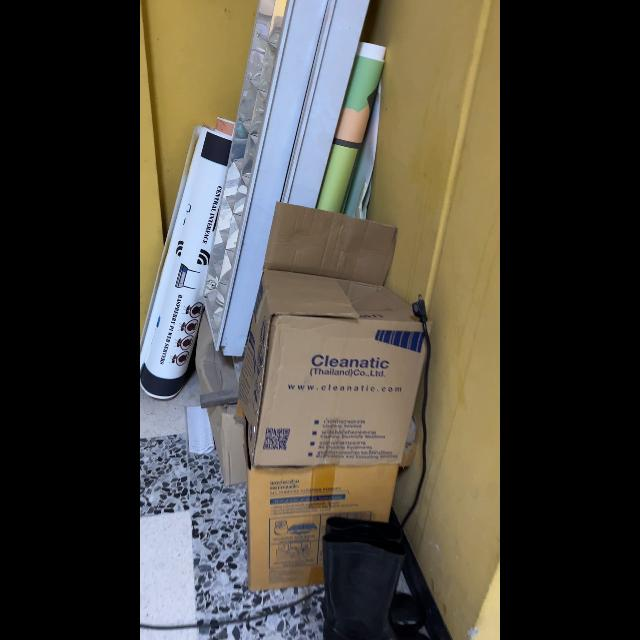cardboard_box: (232, 198, 430, 468), (243, 454, 401, 598)
